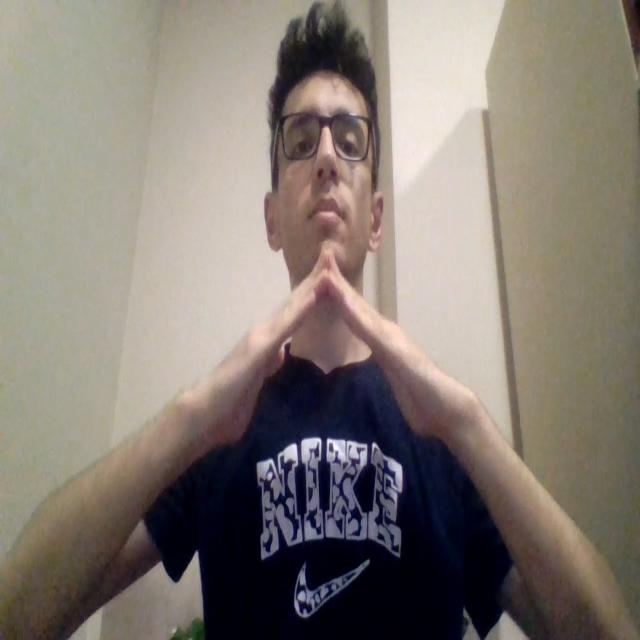house: (194, 252, 469, 438)
